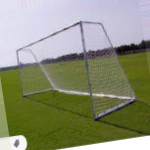goals: (16, 20, 137, 120)
